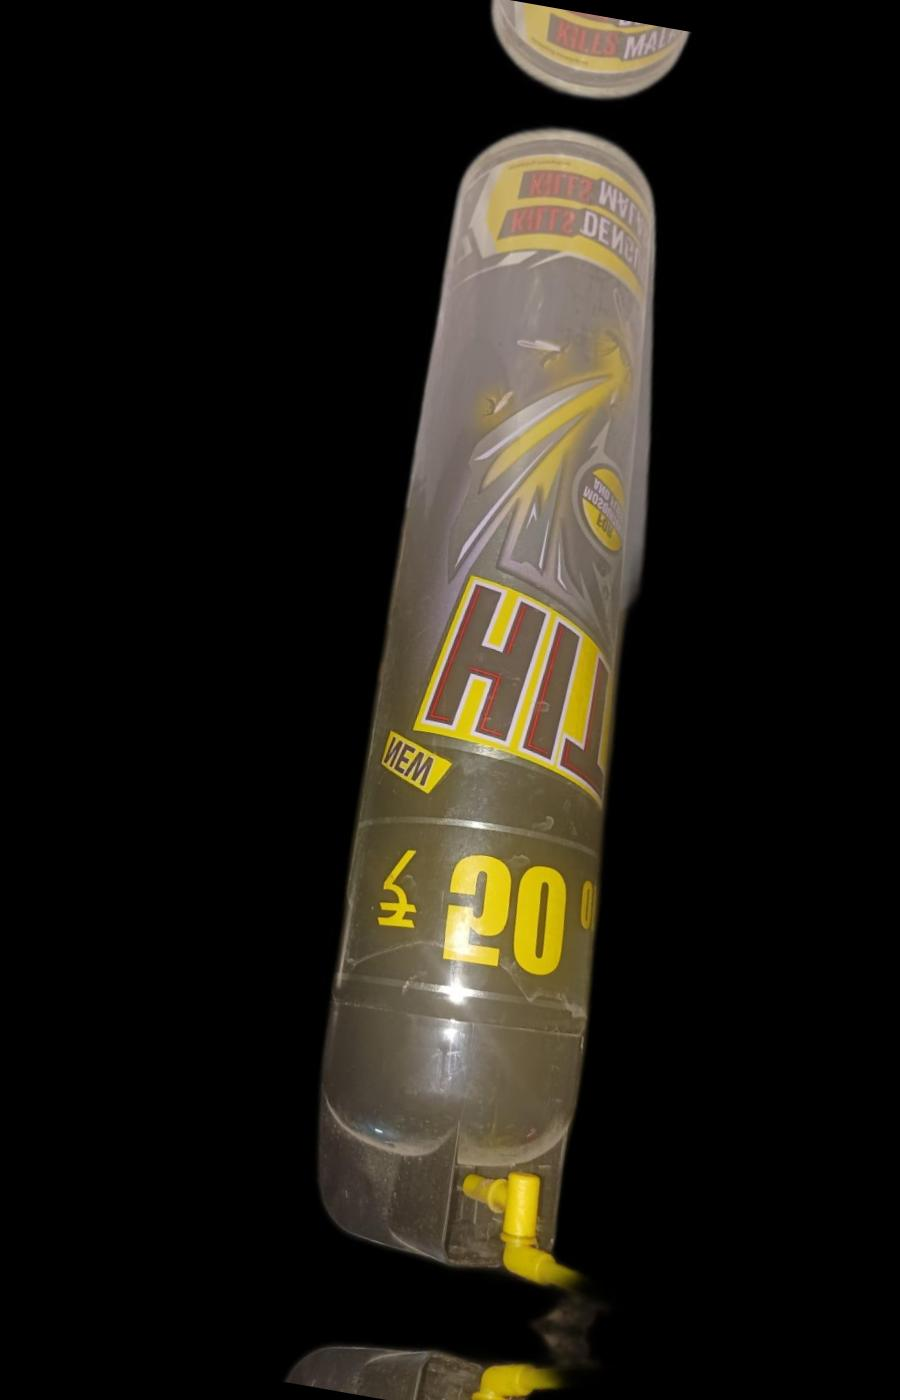HIT Mosquito - Fly Killer Spray700 ml: (287, 128, 731, 1286)
